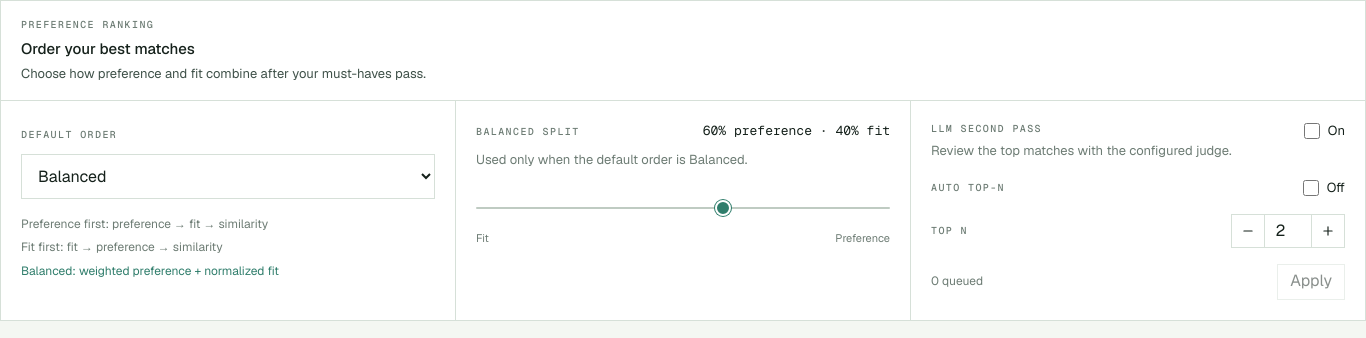
Test: PolicyPanel › interactions › applies writable LLM judge settings explicitly
Click the checkbox named "enable llm judging". click: [1312, 131]
box: left=1304, top=123, right=1320, bottom=139
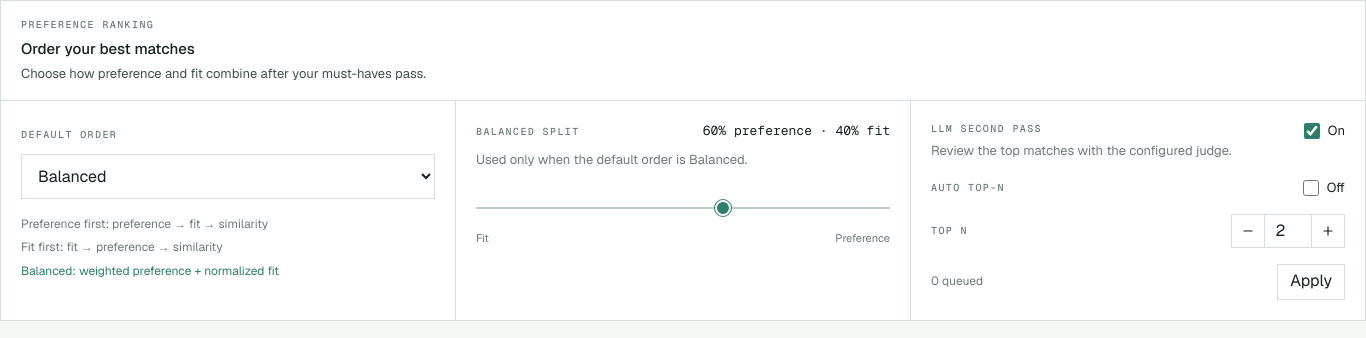
Click the checkbox named "automatically queue top n llm judging". click: [1311, 188]
box: left=1303, top=180, right=1319, bottom=196
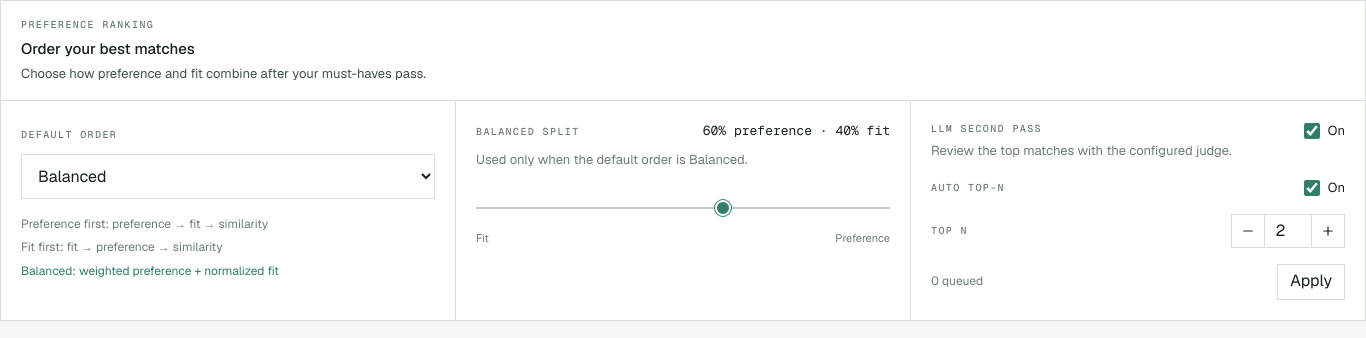
Click the button named "increase llm judge top n". click: [1328, 231]
box: left=1312, top=215, right=1344, bottom=247
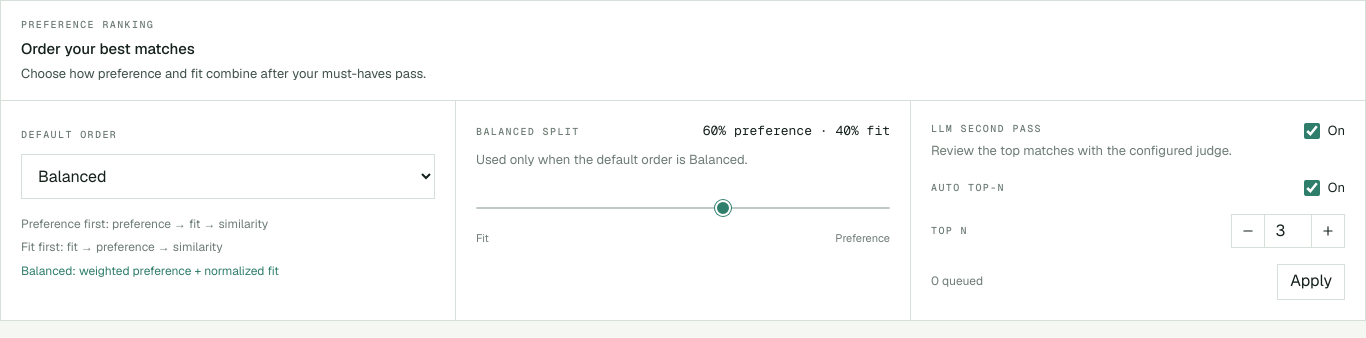
Click the button "Apply". click: [1311, 282]
box: left=1277, top=264, right=1345, bottom=300
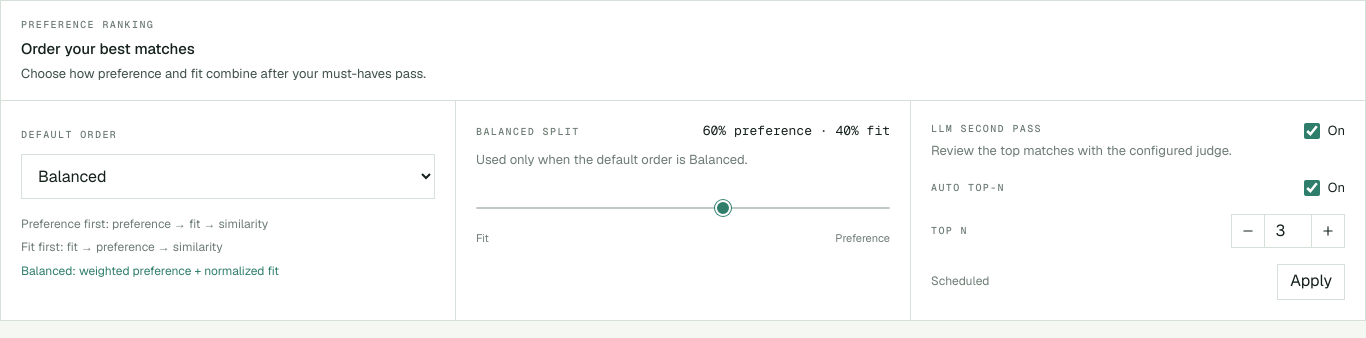
expect the text "Scheduled" is shown: met, box left=931, top=272, right=989, bottom=291
